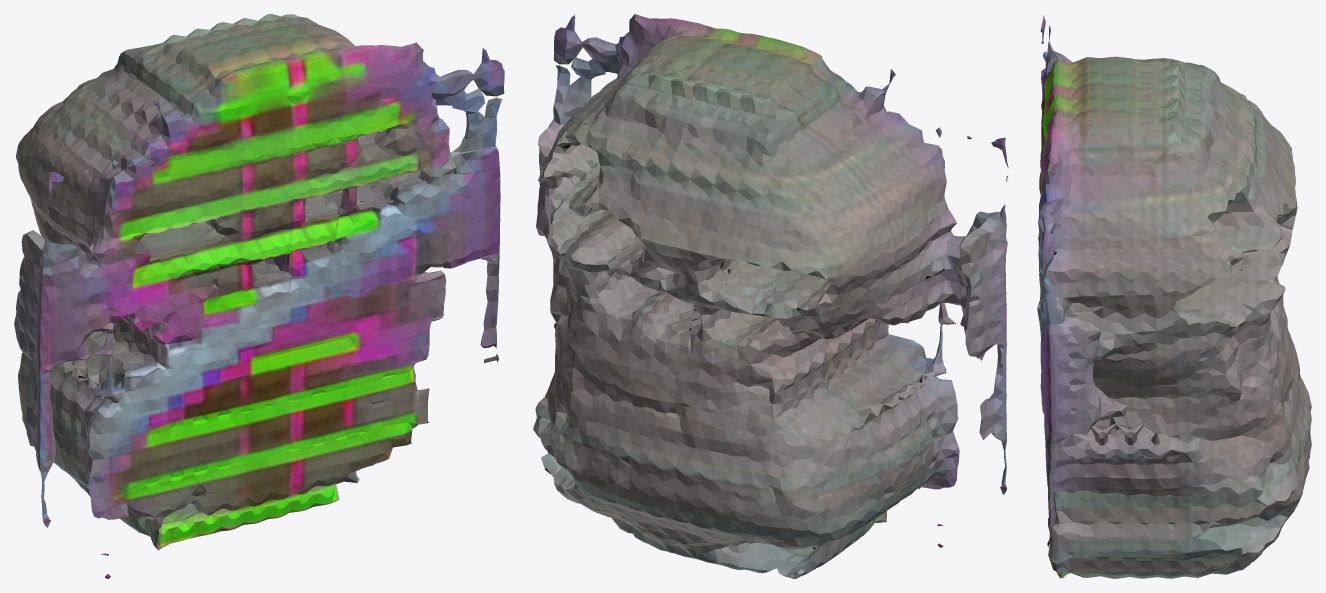
Rendered from 3DBullet_Enemy.glb.
The picture shows the model from 3 angles, left to right: view 1: azimuth 30°, elevation 25°; view 2: azimuth 150°, elevation 25°; view 3: azimuth 270°, elevation 25°; orthographic projection. The views are drawn at different scales.
Bounding box in the file's own units: 0.853 × 0.8393 × 0.4305.
1 material, 1 textured.
